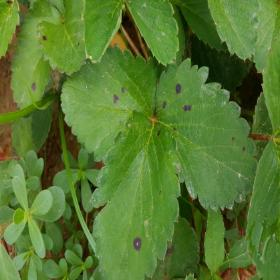Leaf Spot: (153, 58, 259, 213), (89, 110, 181, 279), (60, 42, 164, 162), (37, 0, 125, 77), (8, 0, 66, 110)
